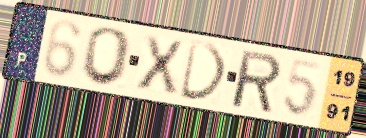5: (282, 56, 324, 120)
6: (41, 18, 83, 81)
D: (178, 38, 230, 104)
O: (78, 25, 135, 88)
R: (231, 47, 284, 116)
X: (134, 32, 186, 96)
